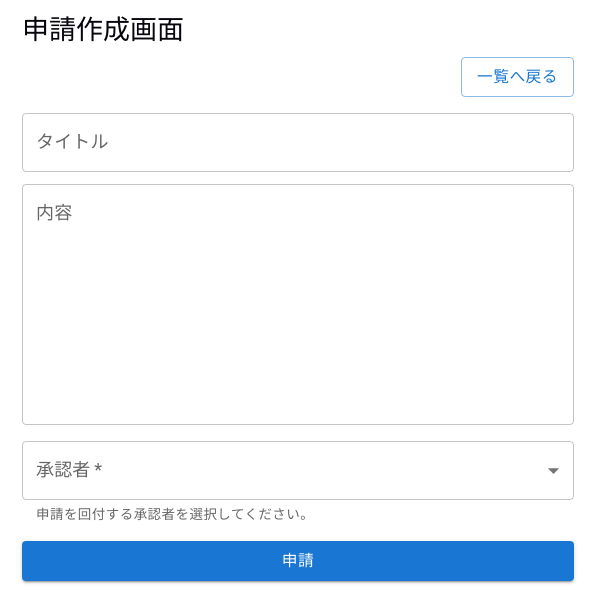
Test case: ApplicationCreatePage › 申請中は入力欄と操作ボタンが無効になること
Type "新規申請タイトル" into the field labelled "タイトル".
click(298, 142); type("新規申請タイトル")  # box x1=22 y1=113 x2=574 y2=172
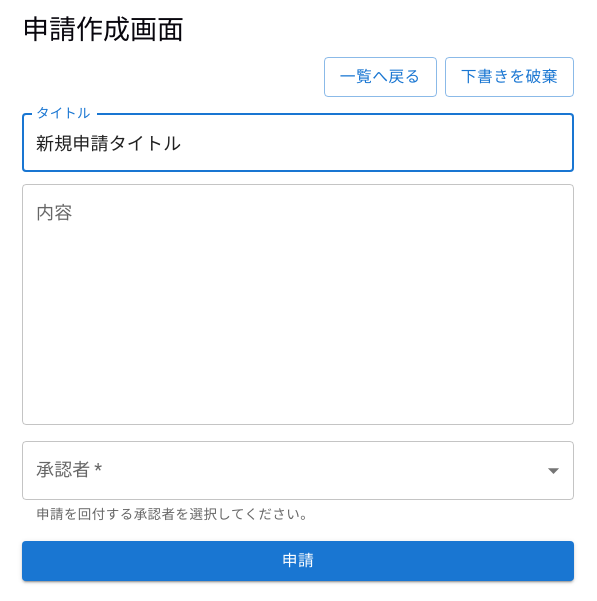
Type "新規申請内容" into the text box labelled "内容".
click(298, 304); type("新規申請内容")  # box x1=36 y1=200 x2=560 y2=408
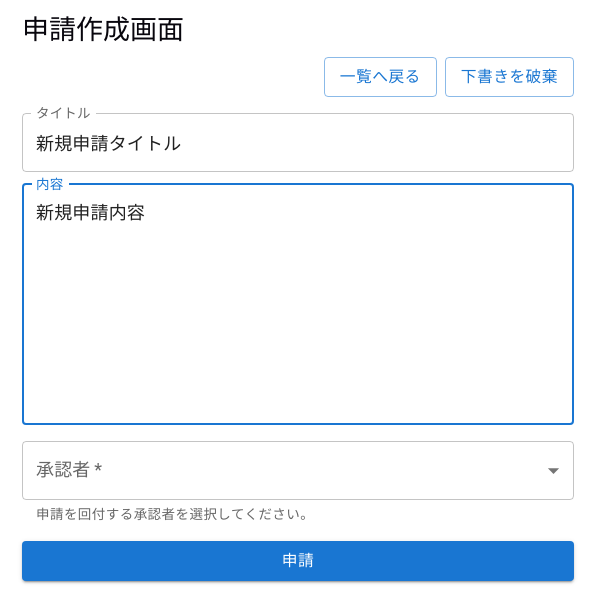
Click the dropdown named "承認者 *".
click(298, 470)  # box x1=22 y1=441 x2=574 y2=500
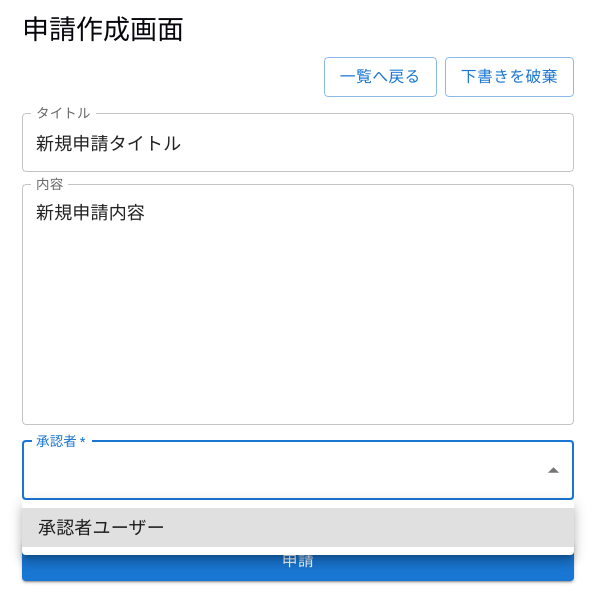
Click the option "承認者ユーザー".
click(101, 528)  # box x1=22 y1=508 x2=574 y2=547
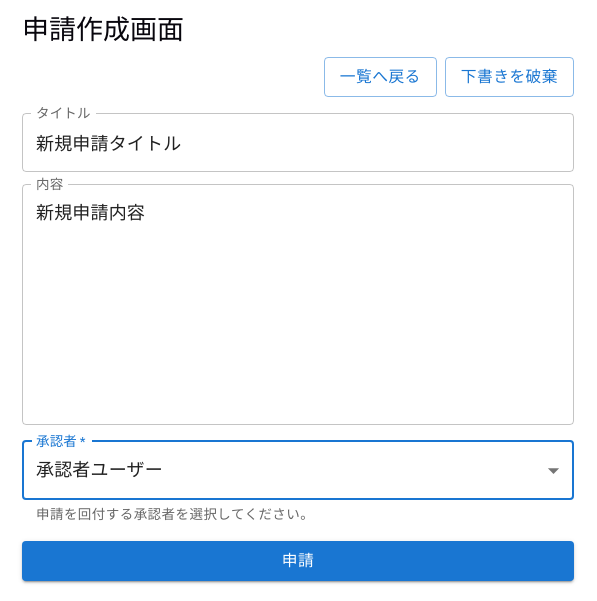
Click the button "申請".
click(298, 561)  # box x1=22 y1=541 x2=574 y2=581
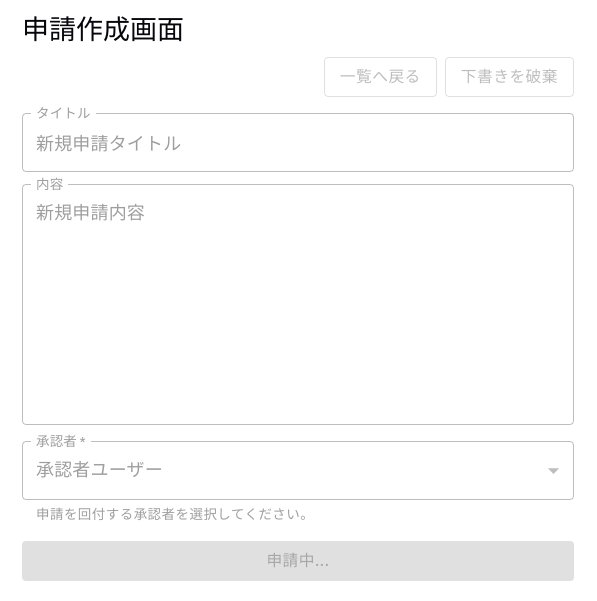
Now the button "申請中..." is disabled, box x1=22 y1=541 x2=574 y2=581
Now the button "一覧へ戻る" is disabled, box x1=324 y1=58 x2=437 y2=97
Now the field labelled "タイトル" is disabled, box x1=22 y1=113 x2=574 y2=172
